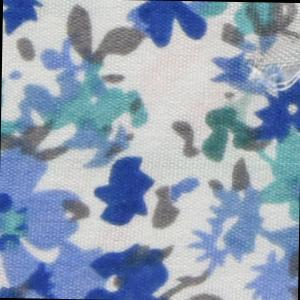Damage: (237, 2, 300, 107)
